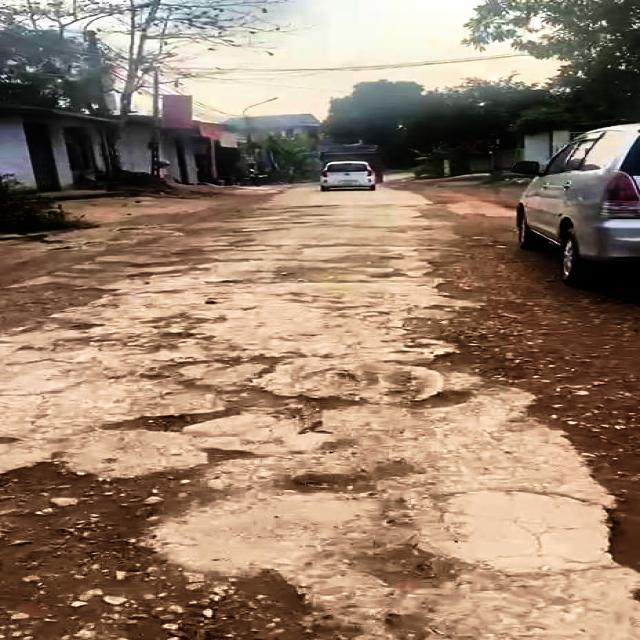pothole: (0, 458, 364, 640), (157, 352, 364, 427), (383, 310, 527, 387), (107, 397, 247, 432)
